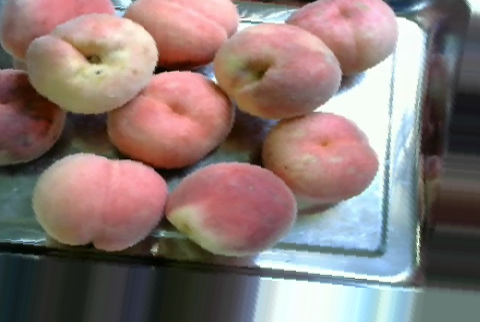Peach: (25, 11, 160, 114), (213, 21, 348, 121), (34, 153, 166, 250), (106, 70, 232, 169), (167, 162, 297, 255), (259, 113, 379, 205), (285, 0, 398, 76), (0, 68, 64, 167)
